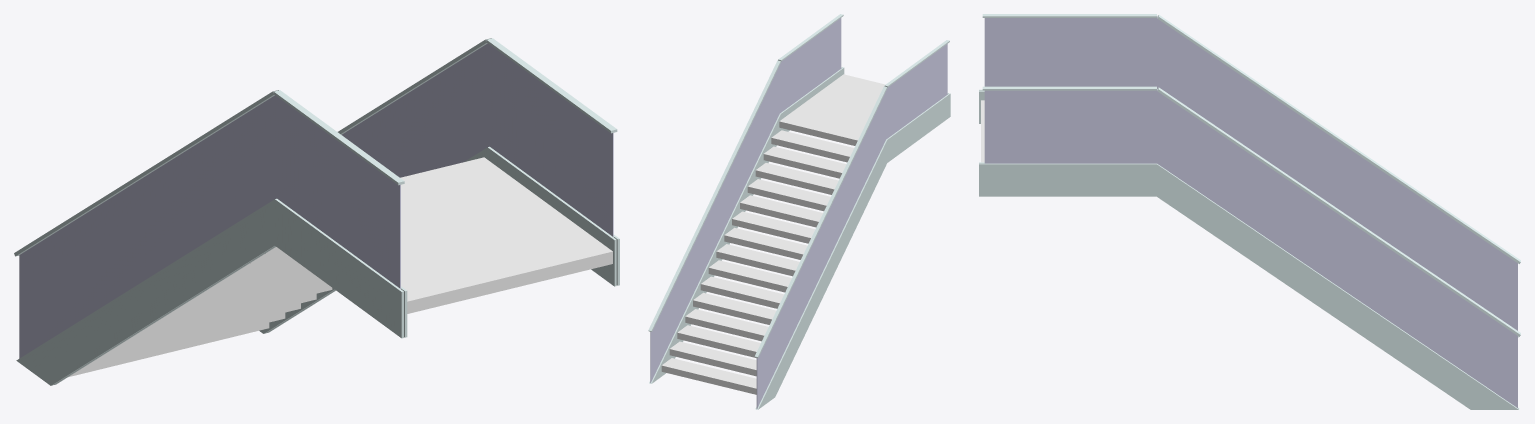
Rendered from Stairs.fbx.
3 renders of one model, left to right at view 1: azimuth 30°, elevation 25°; view 2: azimuth 150°, elevation 25°; view 3: azimuth 270°, elevation 25°, orthographic. The views are drawn at different scales.
Visible parts, largest first — view 1: Stairs_GEO; view 2: Stairs_GEO; view 3: Stairs_GEO.
Part boxes in pixels (x1,y1,x2,y2): Stairs_GEO: [14, 38, 619, 385]; Stairs_GEO: [648, 14, 950, 409]; Stairs_GEO: [979, 14, 1520, 409].
Bounding box in the file's own units: 195 × 391 × 598.
